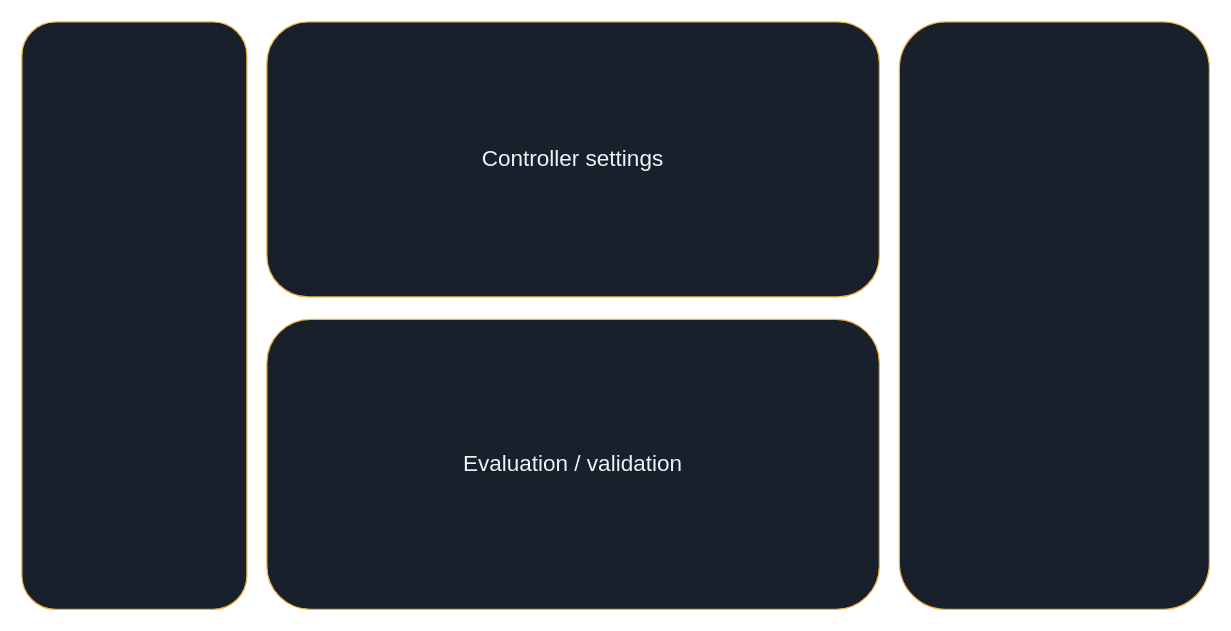
The diagram is 1231 pixels wide and 631 high, and some of its shapes have lost their labels. Each missing label, with the centre of its shape:
Mission / navigation: point (134, 315)
Persistent run summary: point (1053, 315)
